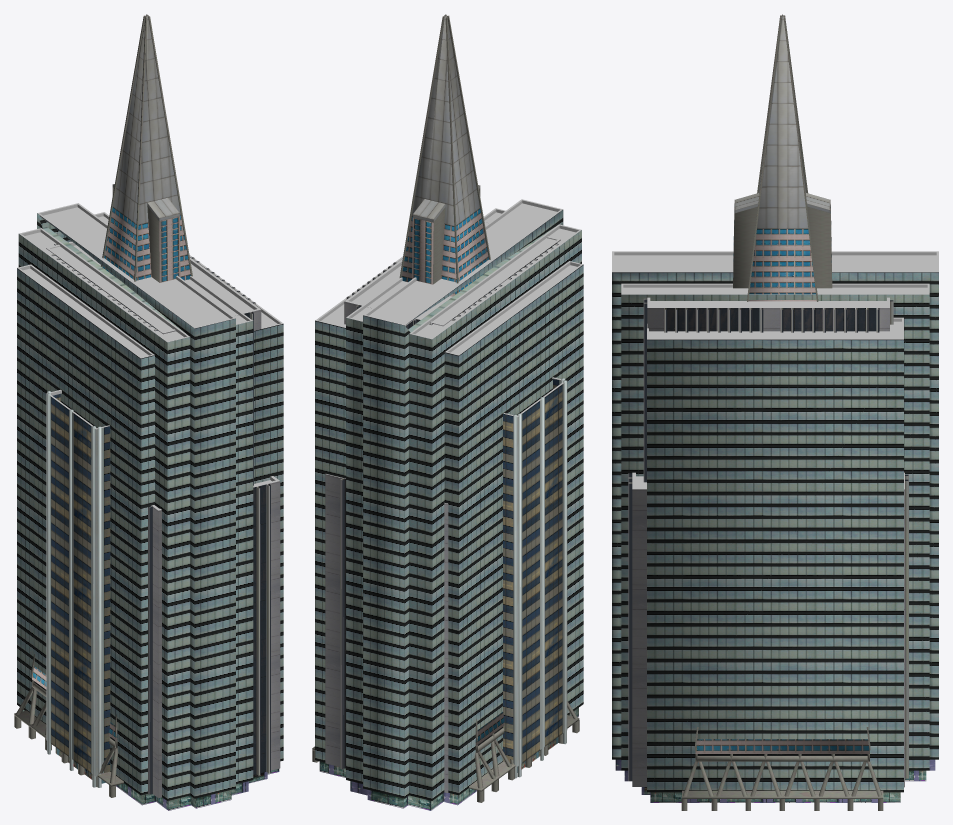
The model's file is Skyscrapers_minipack.FBX.
3 views of the same model, side by side, from view 1: azimuth 30°, elevation 25°; view 2: azimuth 150°, elevation 25°; view 3: azimuth 270°, elevation 25° (orthographic). The views are drawn at different scales.
Visible parts, largest first — view 1: Scraper2, Scraper3, Scraper1, Scraper4; view 2: Scraper2, Scraper3, Scraper1, Scraper4; view 3: Scraper2, Scraper1, Scraper4.
Boxes of the visible parts, x1,y1,x2,y2 form: Scraper2: (17,203,283,810); Scraper3: (46,389,110,787); Scraper1: (14,14,192,797); Scraper4: (46,240,280,798); Scraper2: (315,199,583,810); Scraper3: (503,377,567,778); Scraper1: (312,14,579,802); Scraper4: (325,221,560,793); Scraper2: (612,251,938,802); Scraper1: (681,14,883,810); Scraper4: (628,287,908,794).
Size of the model in its own units: 5977 by 24335 by 9552.
